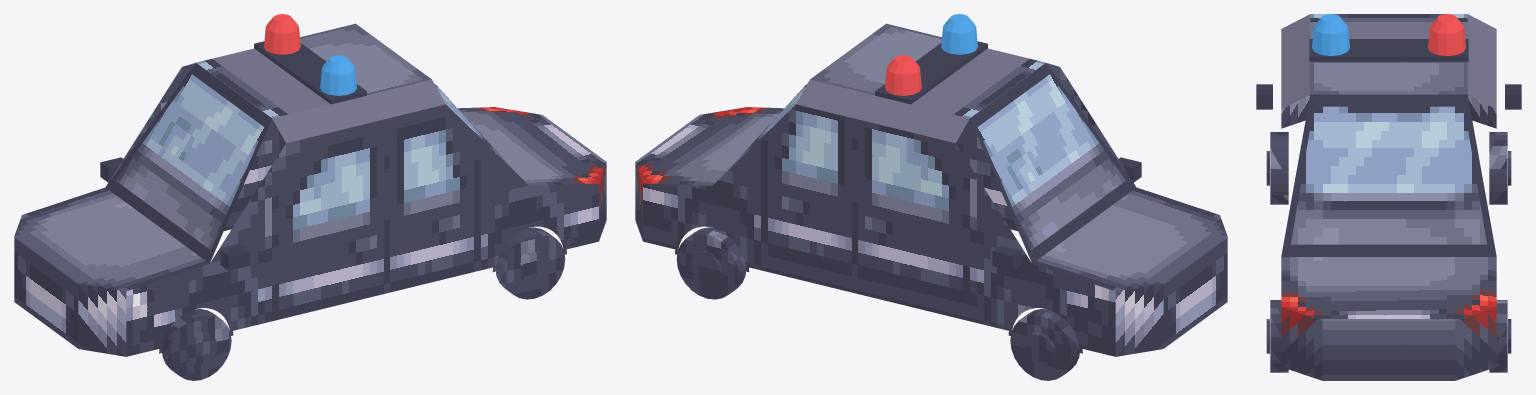
File: police-car-v2.glb
3 renders of one model, left to right at view 1: azimuth 30°, elevation 25°; view 2: azimuth 150°, elevation 25°; view 3: azimuth 270°, elevation 25°, orthographic. The views are drawn at different scales.
Visible parts, largest first — view 1: Sedan-east, Windshield-glass, Hood, Roof, Trunk, Roof-shoulder-east, Front-fascia, Windshield-frame, Front-corner--1, Tire_RL, Tire_FL, Sedan-west (+6 smaller); view 2: Sedan-west, Windshield-glass, Hood, Roof, Trunk, Roof-shoulder-west, Front-fascia, Windshield-frame, Front-corner-1, Tire_RR, Tire_FR, Sedan-east (+6 smaller); view 3: Rear-window-glass, Trunk, Rear-fascia, Roof, Rear-window-frame, Rear-corner-1, Rear-corner--1, Roof-shoulder-east, Roof-shoulder-west, Lightbar-housing, Tire_FL, Tire_FR (+8 smaller).
Boxes of the visible parts, x1=… form: Sedan-east: x1=126, y1=104, x2=598, y2=356; Windshield-glass: x1=116, y1=74, x2=264, y2=249; Hood: x1=14, y1=187, x2=209, y2=291; Roof: x1=196, y1=23, x2=431, y2=118; Trunk: x1=458, y1=107, x2=606, y2=185; Roof-shoulder-east: x1=272, y1=79, x2=445, y2=143; Front-fascia: x1=14, y1=237, x2=78, y2=348; Windshield-frame: x1=105, y1=63, x2=271, y2=263; Front-corner--1: x1=78, y1=283, x2=126, y2=356; Tire_RL: x1=496, y1=227, x2=565, y2=299; Tire_FL: x1=162, y1=309, x2=231, y2=380; Sedan-west: x1=107, y1=64, x2=285, y2=230; Sedan-west: x1=643, y1=104, x2=1115, y2=356; Windshield-glass: x1=977, y1=74, x2=1125, y2=249; Hood: x1=1032, y1=187, x2=1227, y2=291; Roof: x1=810, y1=23, x2=1045, y2=118; Trunk: x1=635, y1=107, x2=783, y2=185; Roof-shoulder-west: x1=796, y1=79, x2=969, y2=143; Front-fascia: x1=1163, y1=237, x2=1227, y2=348; Windshield-frame: x1=970, y1=63, x2=1136, y2=263; Front-corner-1: x1=1115, y1=283, x2=1163, y2=356; Tire_RR: x1=676, y1=227, x2=745, y2=299; Tire_FR: x1=1010, y1=309, x2=1079, y2=380; Sedan-east: x1=956, y1=64, x2=1134, y2=230; Rear-window-glass: x1=1291, y1=106, x2=1486, y2=244; Trunk: x1=1281, y1=257, x2=1496, y2=320; Rear-fascia: x1=1322, y1=321, x2=1455, y2=380; Roof: x1=1310, y1=14, x2=1467, y2=94; Rear-window-frame: x1=1281, y1=94, x2=1496, y2=256; Rear-corner-1: x1=1455, y1=307, x2=1496, y2=380; Rear-corner--1: x1=1281, y1=307, x2=1322, y2=380; Roof-shoulder-east: x1=1281, y1=14, x2=1310, y2=109; Roof-shoulder-west: x1=1467, y1=14, x2=1496, y2=109; Lightbar-housing: x1=1314, y1=39, x2=1463, y2=61; Tire_FL: x1=1270, y1=132, x2=1288, y2=204; Tire_FR: x1=1489, y1=132, x2=1507, y2=204.
Size of the model in its own units: 76 by 35.6 by 32.
Materials: 1 (1 with a texture image).
